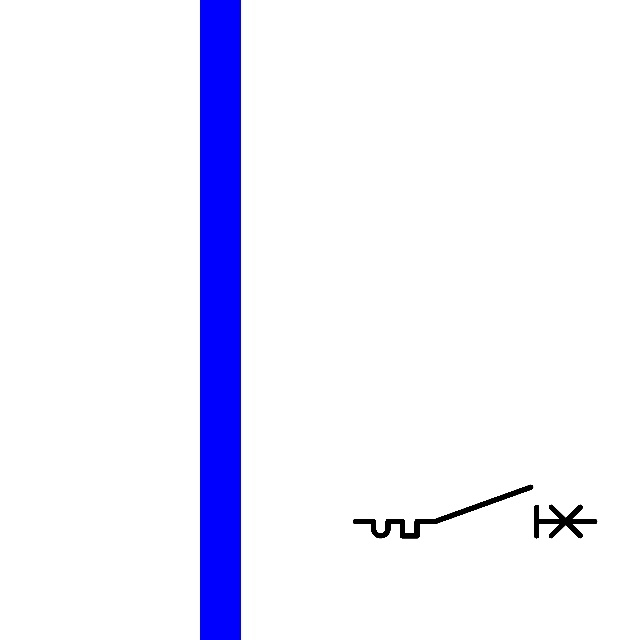interruptor_termomagnetico: (349, 481, 601, 542)
